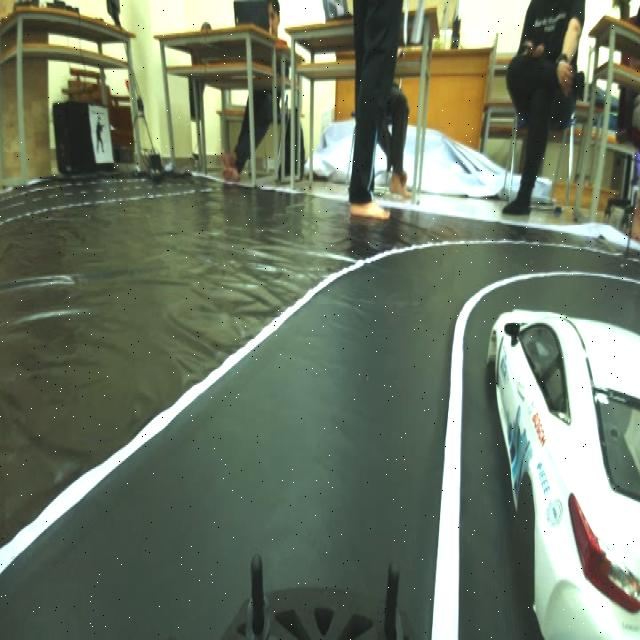car: (490, 267, 640, 640)
